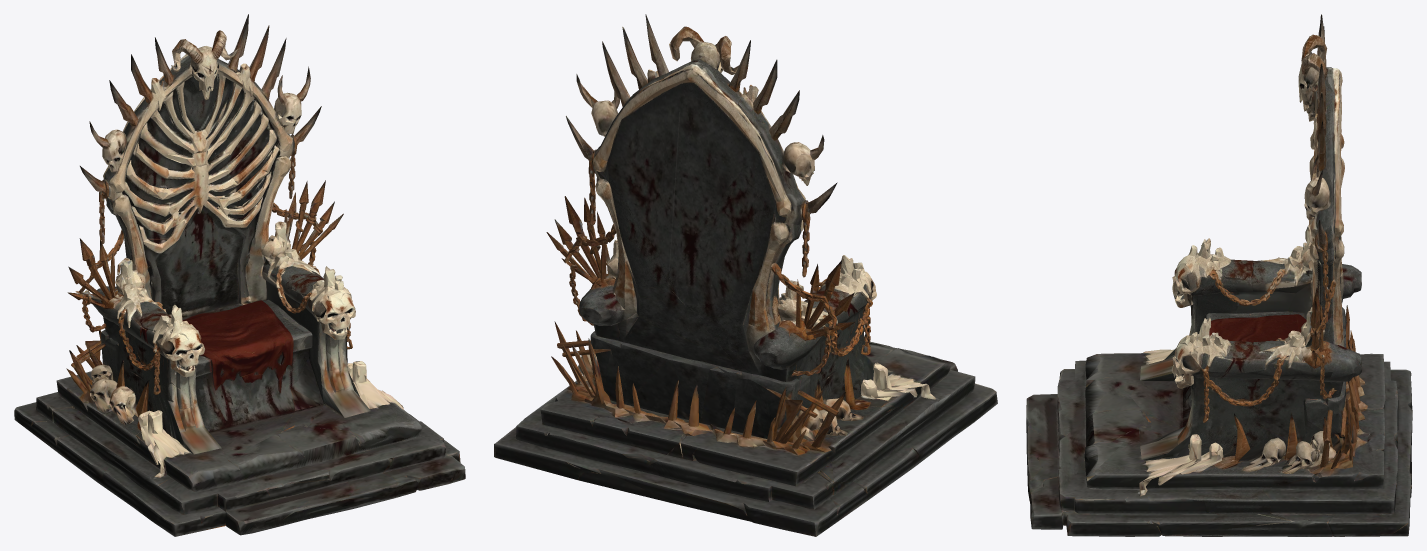
The model's file is throne.glb.
3 views of the same model, side by side, from view 1: azimuth 30°, elevation 25°; view 2: azimuth 150°, elevation 25°; view 3: azimuth 270°, elevation 25° (orthographic). The views are drawn at different scales.
Parts seen in each view (by area): view 1: Throne; view 2: Throne; view 3: Throne.
Part boxes in pixels (x1,y1,x2,y2): Throne: [14, 14, 465, 536]; Throne: [494, 14, 997, 536]; Throne: [1026, 14, 1412, 536].
Size of the model in its own units: 3.25 by 4.15 by 3.43.
1 material, 1 textured.
